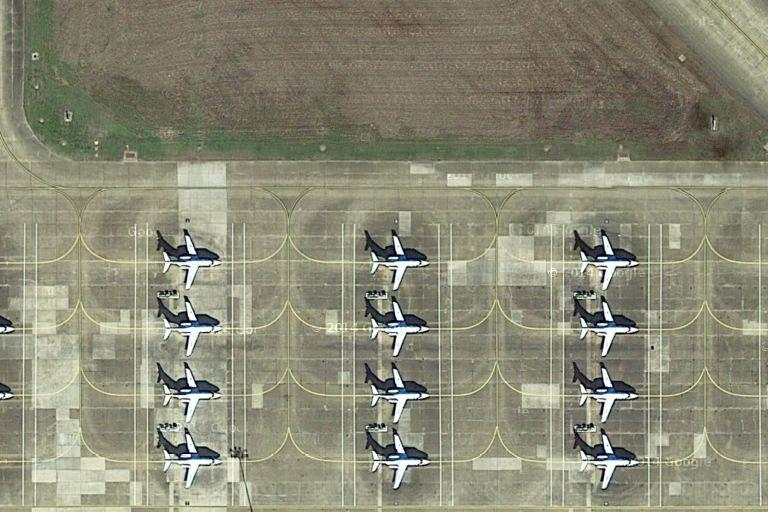plane: (574, 298, 643, 359), (157, 429, 227, 489), (367, 365, 434, 425), (367, 432, 433, 491), (575, 431, 641, 489), (157, 300, 226, 355), (366, 300, 431, 357), (574, 367, 639, 424), (366, 233, 432, 289), (159, 233, 224, 288), (575, 234, 640, 289), (158, 367, 225, 418)
